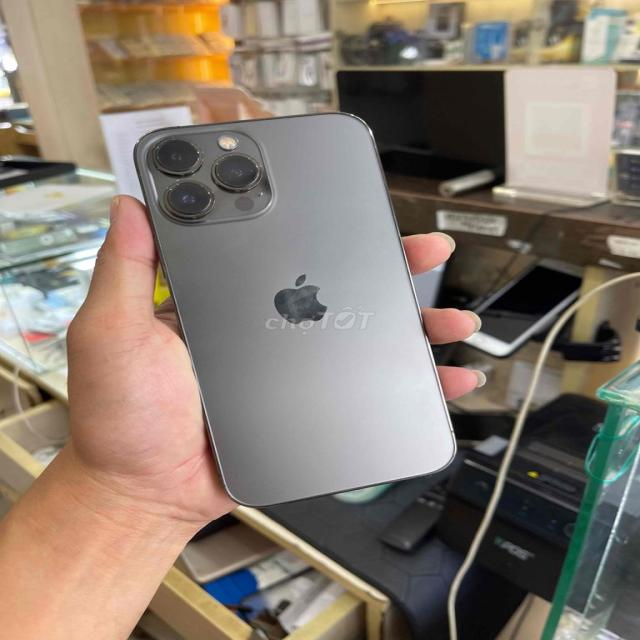gen_12_13: (133, 108, 463, 508)
